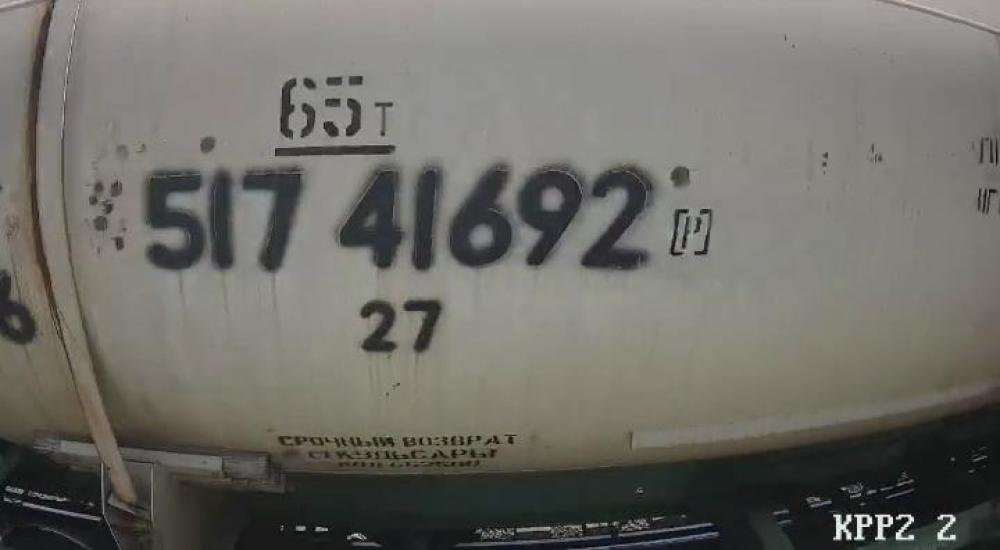Wagon-number: (136, 158, 664, 276)
